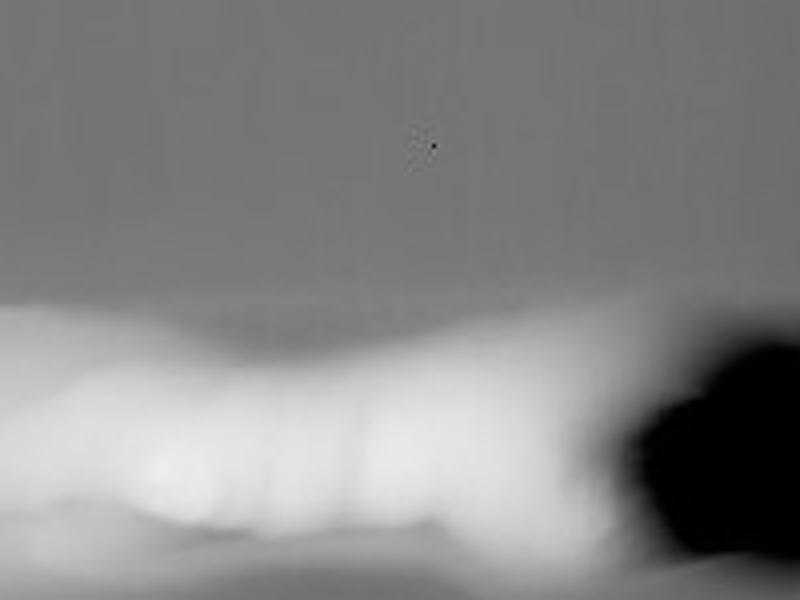defect: (625, 315, 800, 573), (427, 140, 441, 153)
